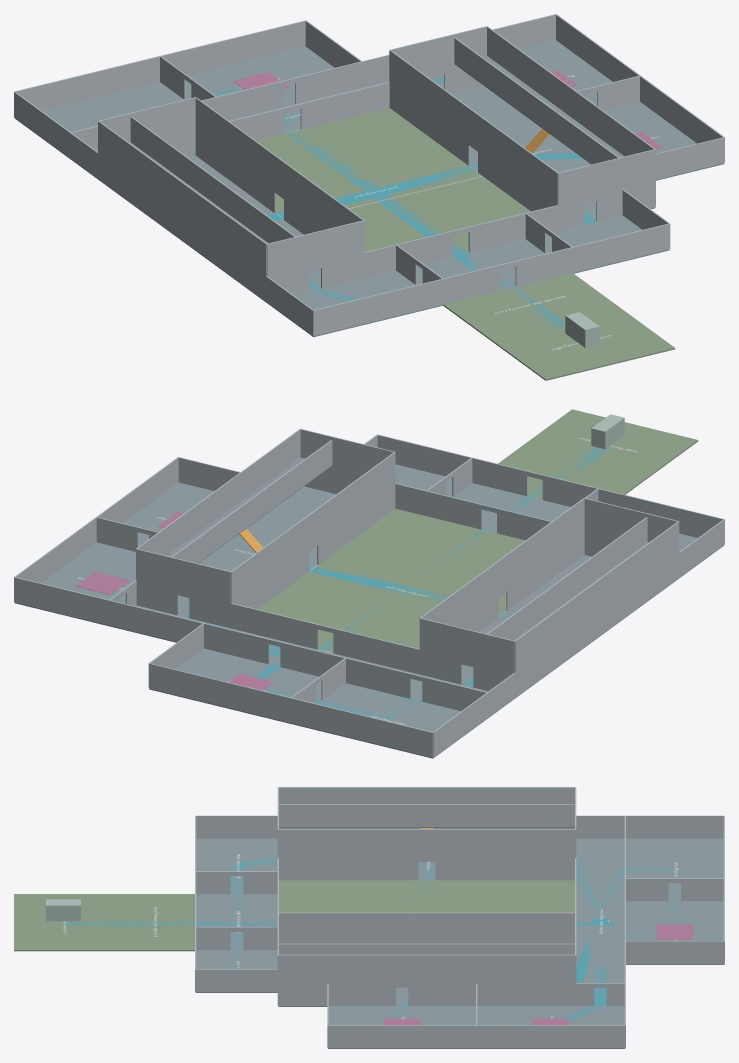
The model's file is rough-shell.glb.
3 renders of one model, top to bottom at view 1: azimuth 30°, elevation 25°; view 2: azimuth 150°, elevation 25°; view 3: azimuth 270°, elevation 25°, orthographic. The views are drawn at different scales.
Parts seen in each view (by area): view 1: Floor yard, Wall block-a W, Floor stage, Floor entry, Wall block-b W, Wall block-a E, Wall block-b W.001, Wall gallery-a E, Wall gallery-b W, Wall medical N, Wall mess N, Wall intake S (+53 smaller); view 2: Floor yard, Wall block-a W, Floor stage, Wall block-b W.001, Wall block-a E.001, Wall block-b W, Wall gallery-b W, Wall gallery-a E, Wall cross N.002, Wall mess N, Wall medical N, Floor mess (+45 smaller); view 3: Floor yard, Wall block-b E, Wall block-a E, Wall block-a E.001, Wall gallery-a E, Wall block-b E.001, Wall gallery-b E, Wall block-a W, Floor stage, Floor entry, Wall block-b W, Wall block-b W.001 (+38 smaller).
Boxes of the visible parts, <box> form: Floor yard: <box>256,108,530,252</box>; Wall block-a W: <box>98,121,266,301</box>; Floor stage: <box>489,307,675,380</box>; Floor entry: <box>443,273,618,339</box>; Wall block-b W: <box>389,50,469,165</box>; Wall block-a E: <box>195,97,275,213</box>; Wall block-b W.001: <box>478,115,558,211</box>; Wall gallery-a E: <box>130,117,295,243</box>; Wall gallery-b W: <box>454,37,619,164</box>; Wall medical N: <box>160,20,305,75</box>; Wall mess N: <box>14,56,160,110</box>; Wall intake S: <box>313,279,443,335</box>; Floor yard: <box>258,508,525,652</box>; Wall block-a W: <box>515,521,679,696</box>; Floor stage: <box>518,409,698,480</box>; Wall block-b W.001: <box>317,452,395,564</box>; Wall block-a E.001: <box>506,498,584,610</box>; Wall block-b W: <box>231,515,309,609</box>; Wall gallery-b W: <box>172,440,332,563</box>; Wall gallery-a E: <box>487,517,647,640</box>; Wall cross N.002: <box>109,600,269,664</box>; Wall mess N: <box>290,698,432,757</box>; Wall medical N: <box>149,663,290,722</box>; Floor mess: <box>291,683,487,758</box>; Floor yard: <box>279,880,574,912</box>; Wall block-b E: <box>408,954,575,1005</box>; Wall block-a E: <box>435,829,575,880</box>; Wall block-a E.001: <box>278,829,418,880</box>; Wall gallery-a E: <box>279,804,574,826</box>; Wall block-b E.001: <box>278,954,395,1005</box>; Wall gallery-b E: <box>278,958,575,980</box>; Wall block-a W: <box>278,787,575,828</box>; Floor stage: <box>14,894,112,951</box>; Floor entry: <box>113,894,194,951</box>; Wall block-b W: <box>435,912,575,943</box>; Wall block-b W.001: <box>278,912,418,943</box>.
Bounding box in the file's own units: 60.16 × 9.96 × 86.08.
